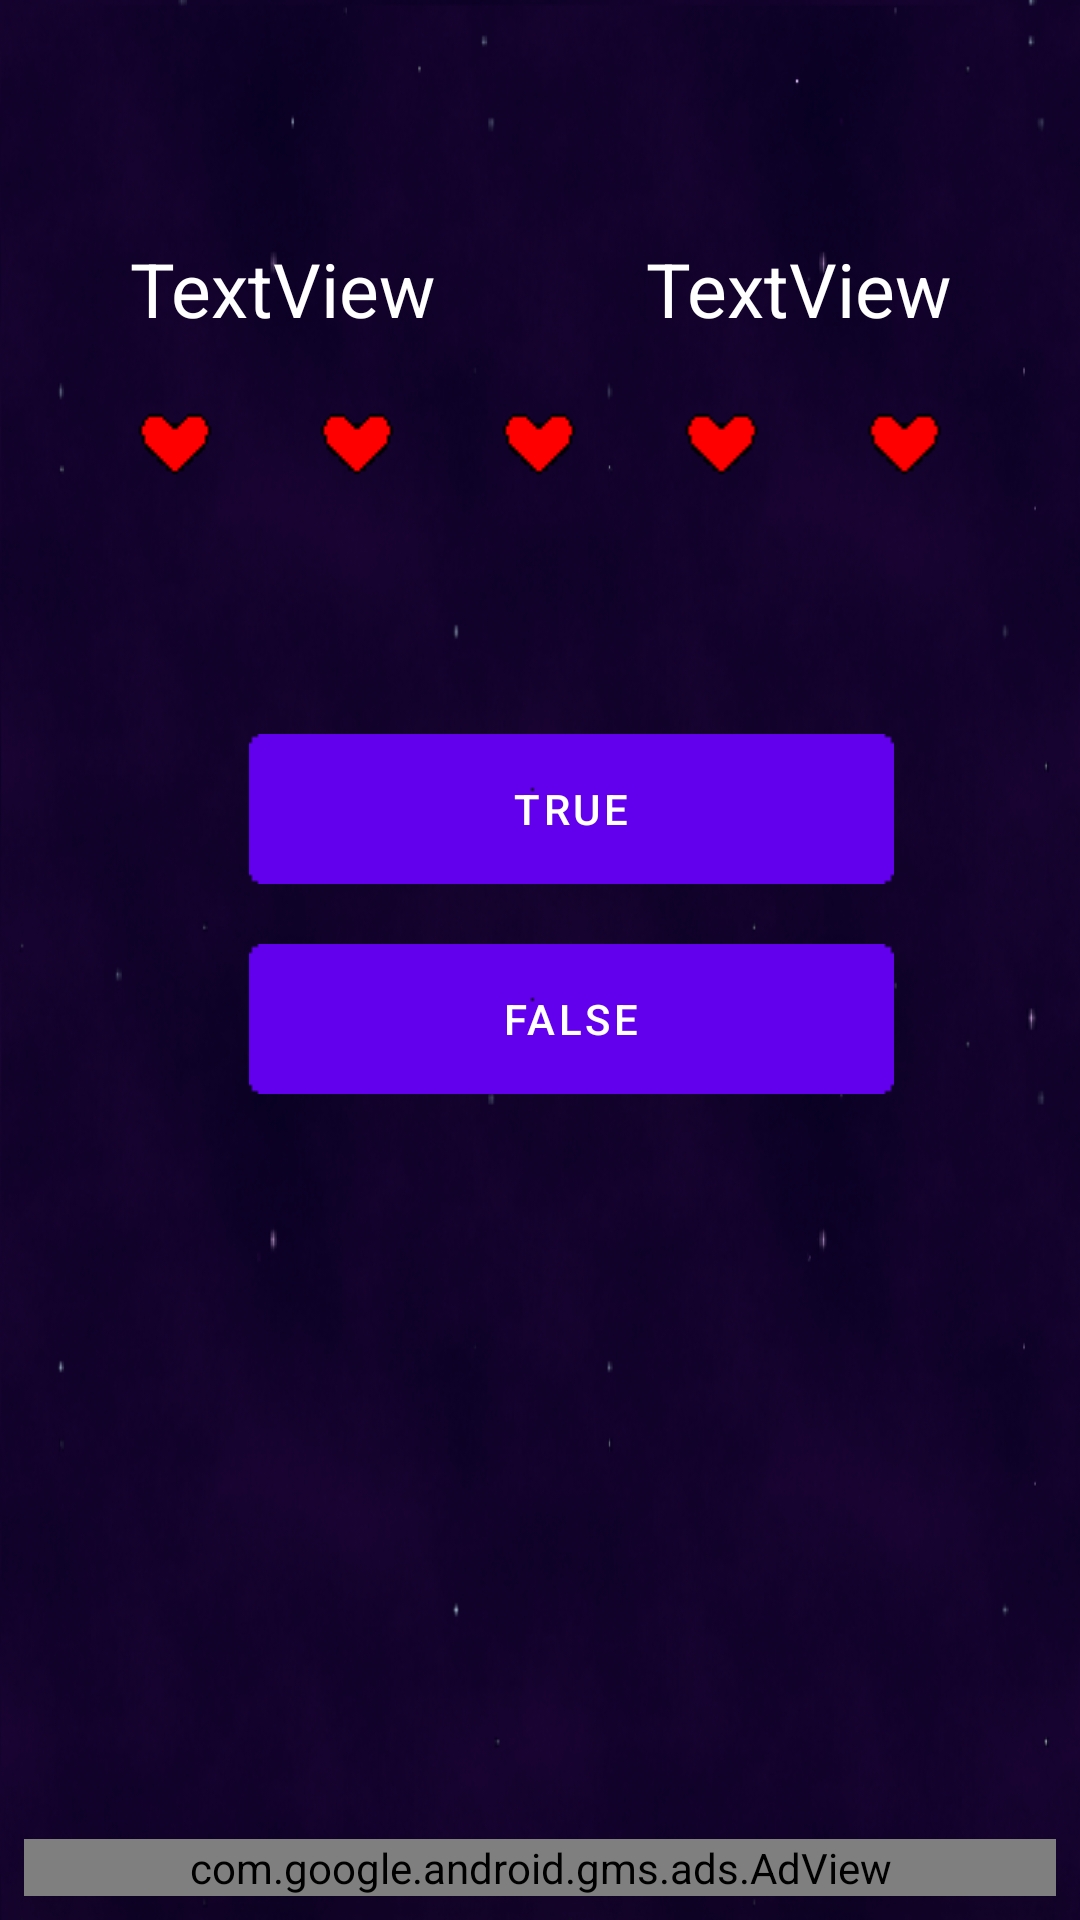

Icons on this 1080x1920 Android screen, each with the point to tap as (x,y):
heart: (175,444), (357,444), (557,444), (721,444), (904,444)
